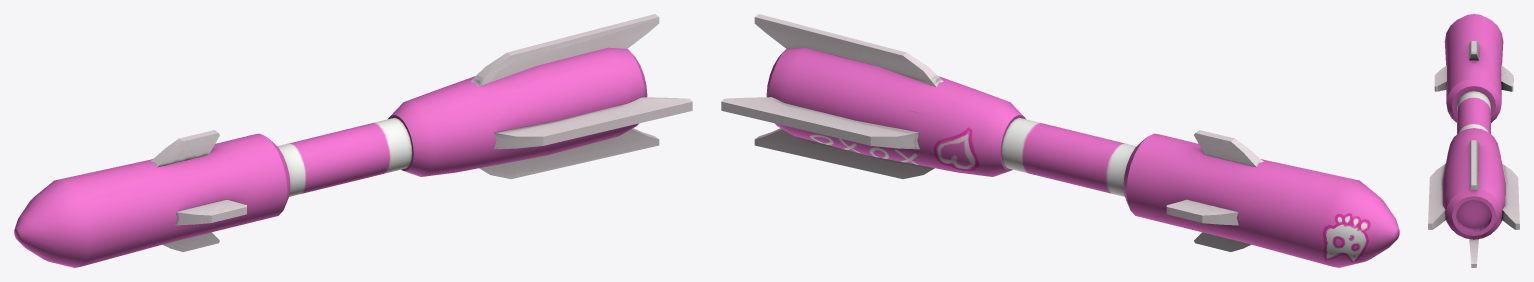
File: Pink mizzie.fbx
3 renders of one model, left to right at view 1: azimuth 30°, elevation 25°; view 2: azimuth 150°, elevation 25°; view 3: azimuth 270°, elevation 25°, orthographic. The views are drawn at different scales.
Parts seen in each view (by area): view 1: pCylinder6; view 2: pCylinder6; view 3: pCylinder6.
Part boxes in pixels (x1=…): pCylinder6: x1=14, y1=14, x2=692, y2=267; pCylinder6: x1=721, y1=14, x2=1399, y2=267; pCylinder6: x1=1428, y1=14, x2=1519, y2=267.
Size of the model in its own units: 166 by 31.96 by 32.16.
Materials: 1 (1 with a texture image).
